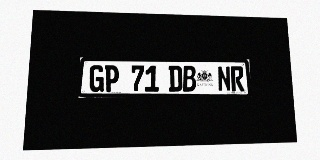1: (145, 65, 159, 92)
7: (130, 65, 144, 92)
B: (182, 66, 196, 91)
D: (168, 66, 182, 92)
G: (89, 65, 104, 92)
N: (217, 66, 231, 91)
P: (104, 65, 119, 92)
R: (230, 66, 244, 91)
